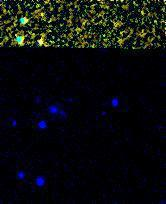star: (26, 23, 56, 53)
